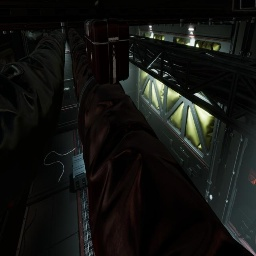FireAlarm ,: (248, 168, 256, 184)
FirstAidBox ,: (84, 0, 129, 85)
